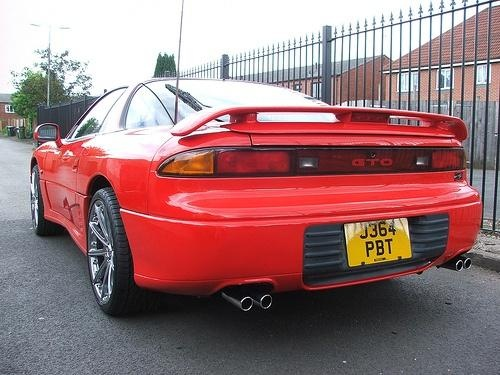car: (25, 74, 489, 323)
